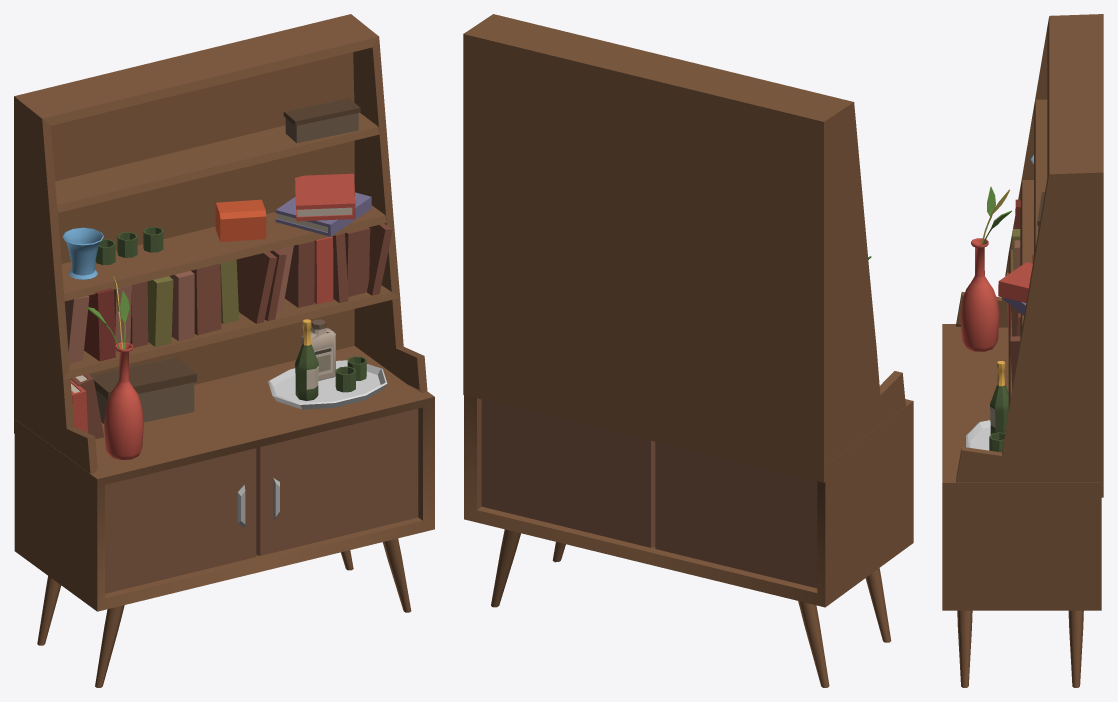
The model's file is Tall Sideboard.fbx.
The picture shows the model from 3 angles, left to right: view 1: azimuth 30°, elevation 25°; view 2: azimuth 150°, elevation 25°; view 3: azimuth 270°, elevation 25°; orthographic projection. The views are drawn at different scales.
Parts seen in each view (by area): view 1: Cube.291, Cube.290, Cube.348, Circle.016, Plane.029, Cube.350, Circle.013, Cube.368, Cube.363, Cube.351, Cube.353, Cube.357 (+18 smaller); view 2: Cube.291, Cube.290, Plane.029; view 3: Cube.291, Cube.290, Circle.016, Plane.029, Gold Top Bottle.013, Cube.350, Circle.013, Cube.367, Circle.014.
Part boxes in pixels (left/top/right/bottom): Cube.291: left=14, top=14, right=427, bottom=473; Cube.290: left=14, top=346, right=434, bottom=611; Cube.348: left=90, top=357, right=196, bottom=423; Circle.016: left=104, top=342, right=143, bottom=460; Plane.029: left=37, top=538, right=411, bottom=687; Cube.350: left=295, top=173, right=355, bottom=221; Circle.013: left=268, top=360, right=387, bottom=409; Cube.368: left=283, top=98, right=360, bottom=143; Cube.363: left=236, top=251, right=276, bottom=323; Cube.351: left=215, top=199, right=266, bottom=241; Cube.353: left=84, top=288, right=115, bottom=361; Cube.357: left=191, top=263, right=221, bottom=335; Cube.291: left=463, top=14, right=905, bottom=482; Cube.290: left=464, top=395, right=913, bottom=607; Plane.029: left=491, top=529, right=891, bottom=687; Cube.291: left=956, top=14, right=1103, bottom=497; Cube.290: left=942, top=324, right=1101, bottom=610; Circle.016: left=960, top=238, right=999, bottom=351; Plane.029: left=957, top=610, right=1083, bottom=687; Gold Top Bottle.013: left=990, top=361, right=1008, bottom=434; Cube.350: left=998, top=262, right=1032, bottom=302; Circle.013: left=966, top=420, right=990, bottom=450; Cube.367: left=1010, top=336, right=1020, bottom=388; Circle.014: left=989, top=432, right=1004, bottom=452.
Size of the model in its own units: 6706 by 2875 by 10266.
